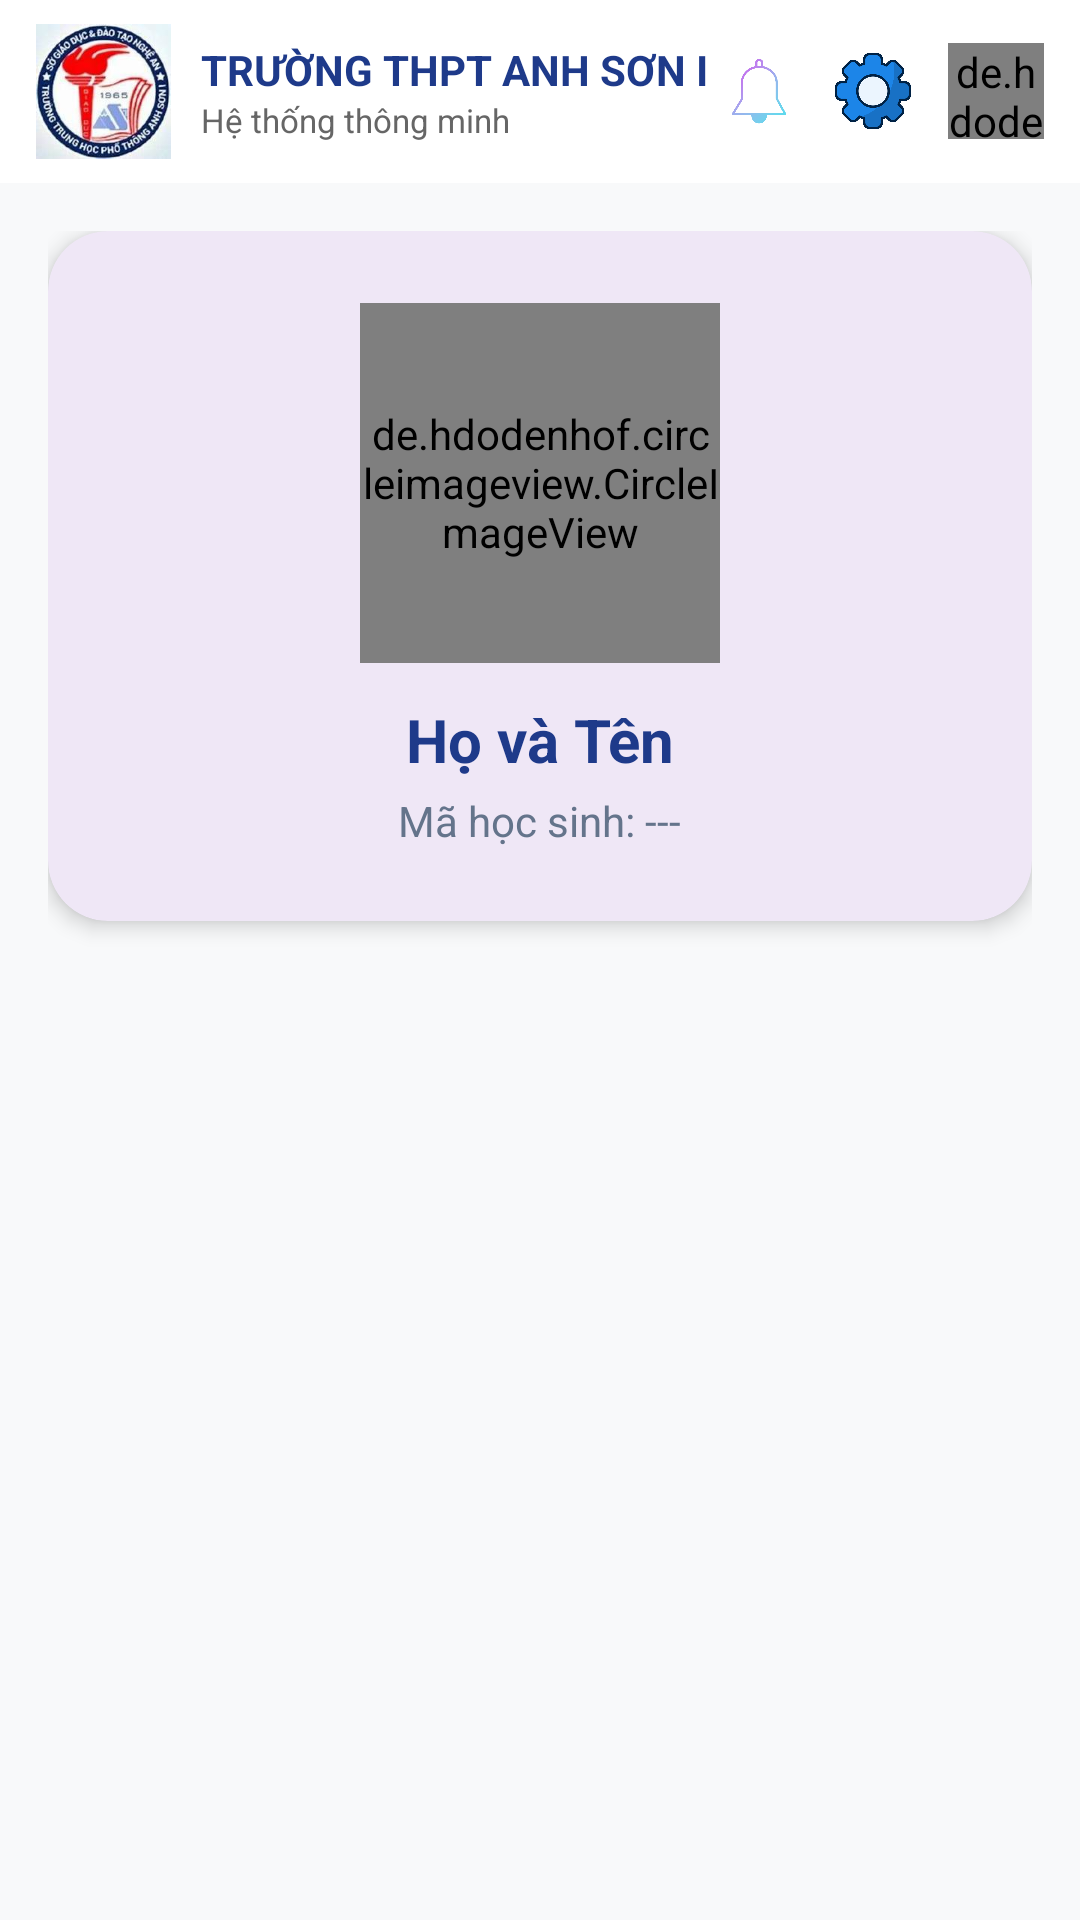

Where icons sit on this 1080 x 1920 app screen, as (x1, y1, x2, y2):
Notification: (732, 59, 786, 124)
Settings: (835, 53, 911, 129)
